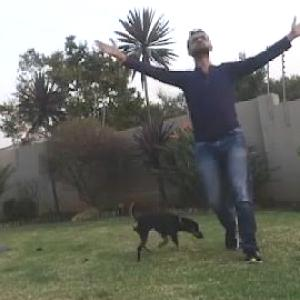takeoff: (121, 35, 299, 243)
